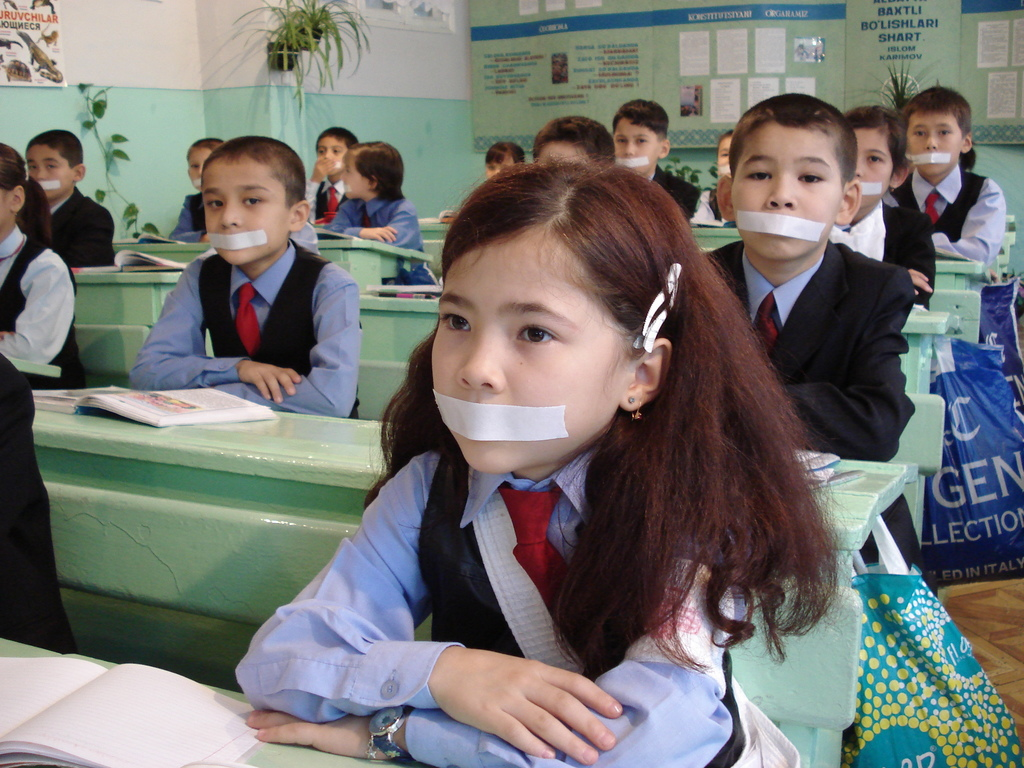Person: (0, 86, 1007, 768)
